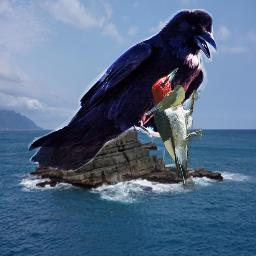Crow: (28, 9, 217, 172)
Cuckoo: (143, 85, 185, 115)
Woodpecker: (151, 68, 202, 190)
